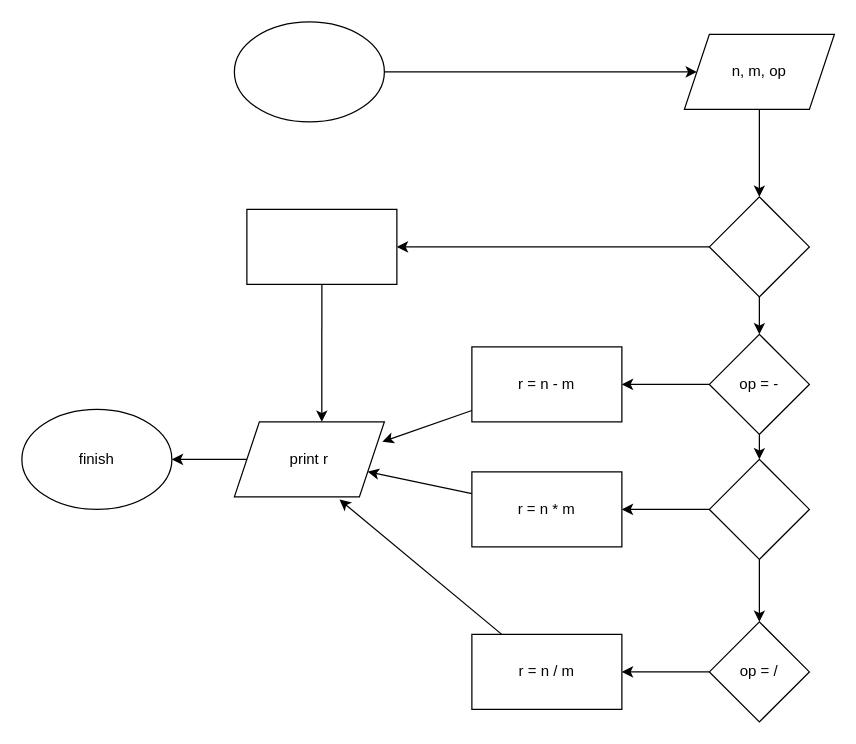
Some shapes in this 856 by 744 pixel diagram are drawn without their labels. Here are the shapes that lost their labels. From the top down, the centre of each, then its label:
At pixel 308 71: "start".
At pixel 321 246: "r = n + m".
At pixel 758 246: "op = +".
At pixel 758 508: "op = *".
